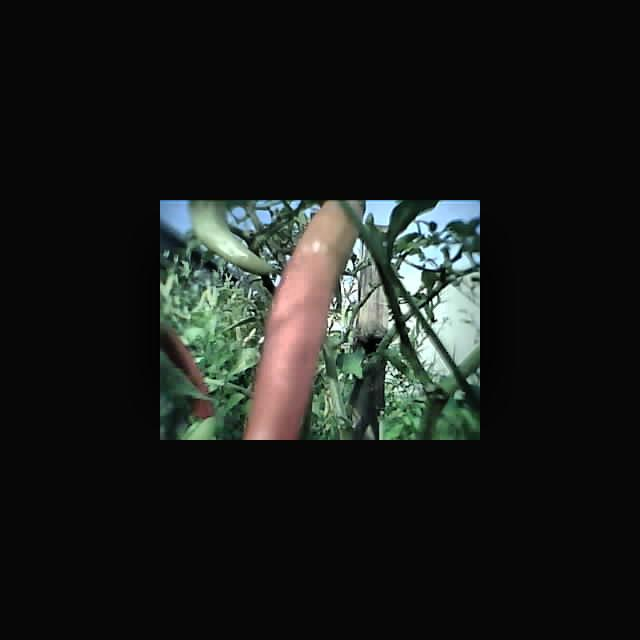Cabai: (277, 202, 355, 440), (160, 322, 216, 418)
